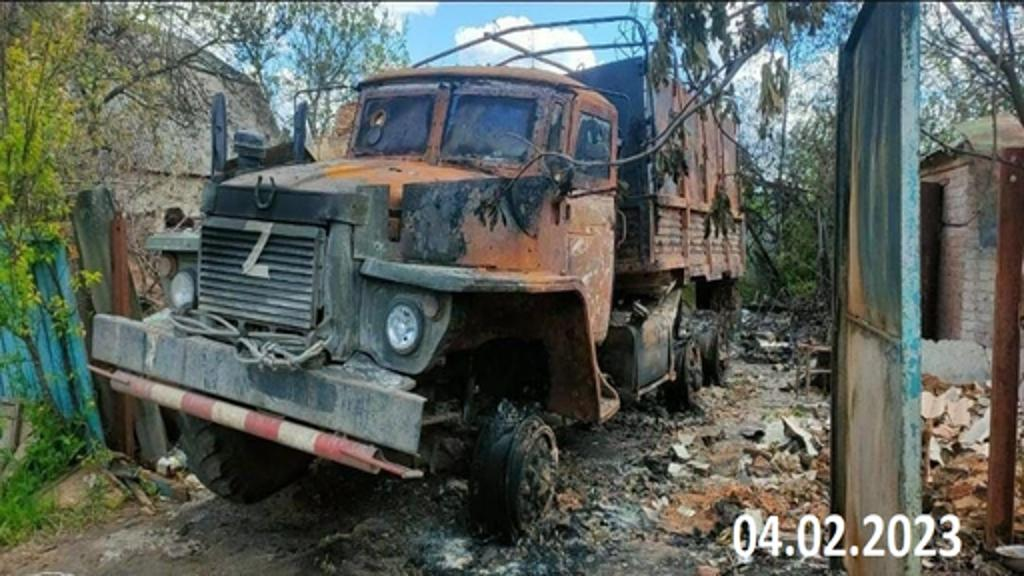TRUCK: (88, 10, 748, 528)
